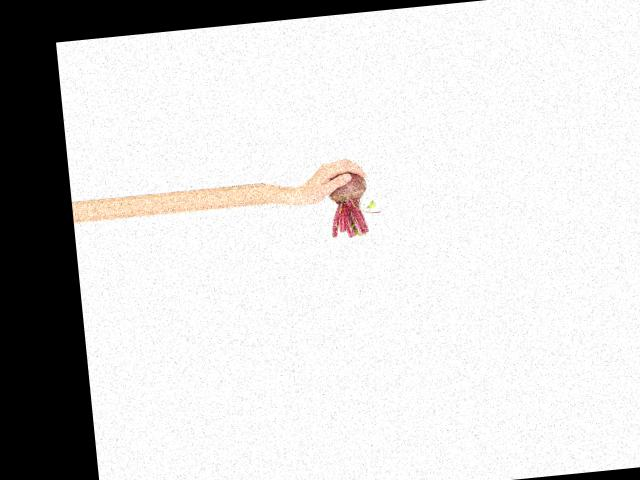beet: (327, 168, 383, 239)
